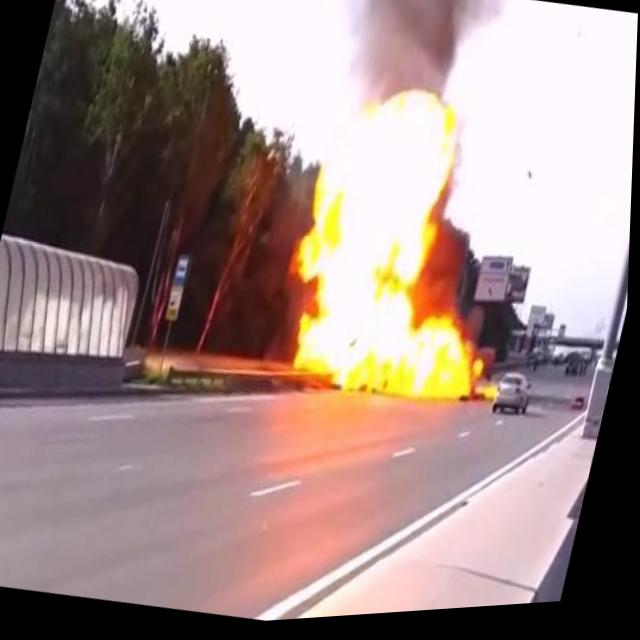fire: (258, 61, 541, 428), (473, 377, 507, 419)
